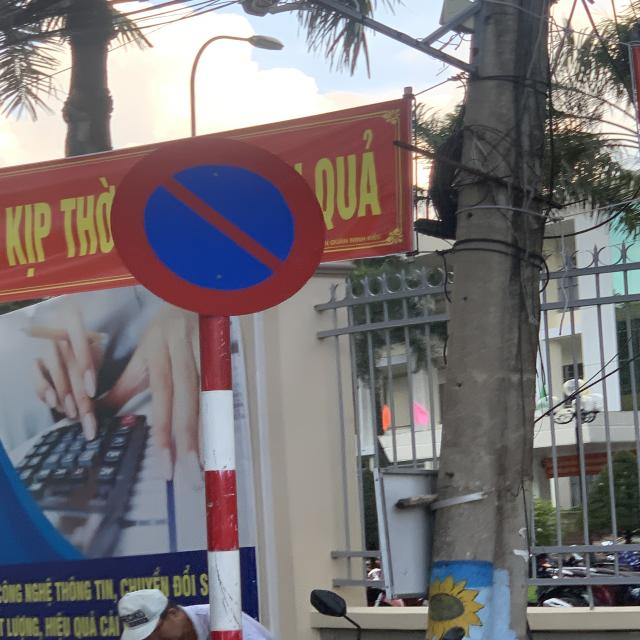Cam_Dau_Xe: (109, 138, 328, 314)
